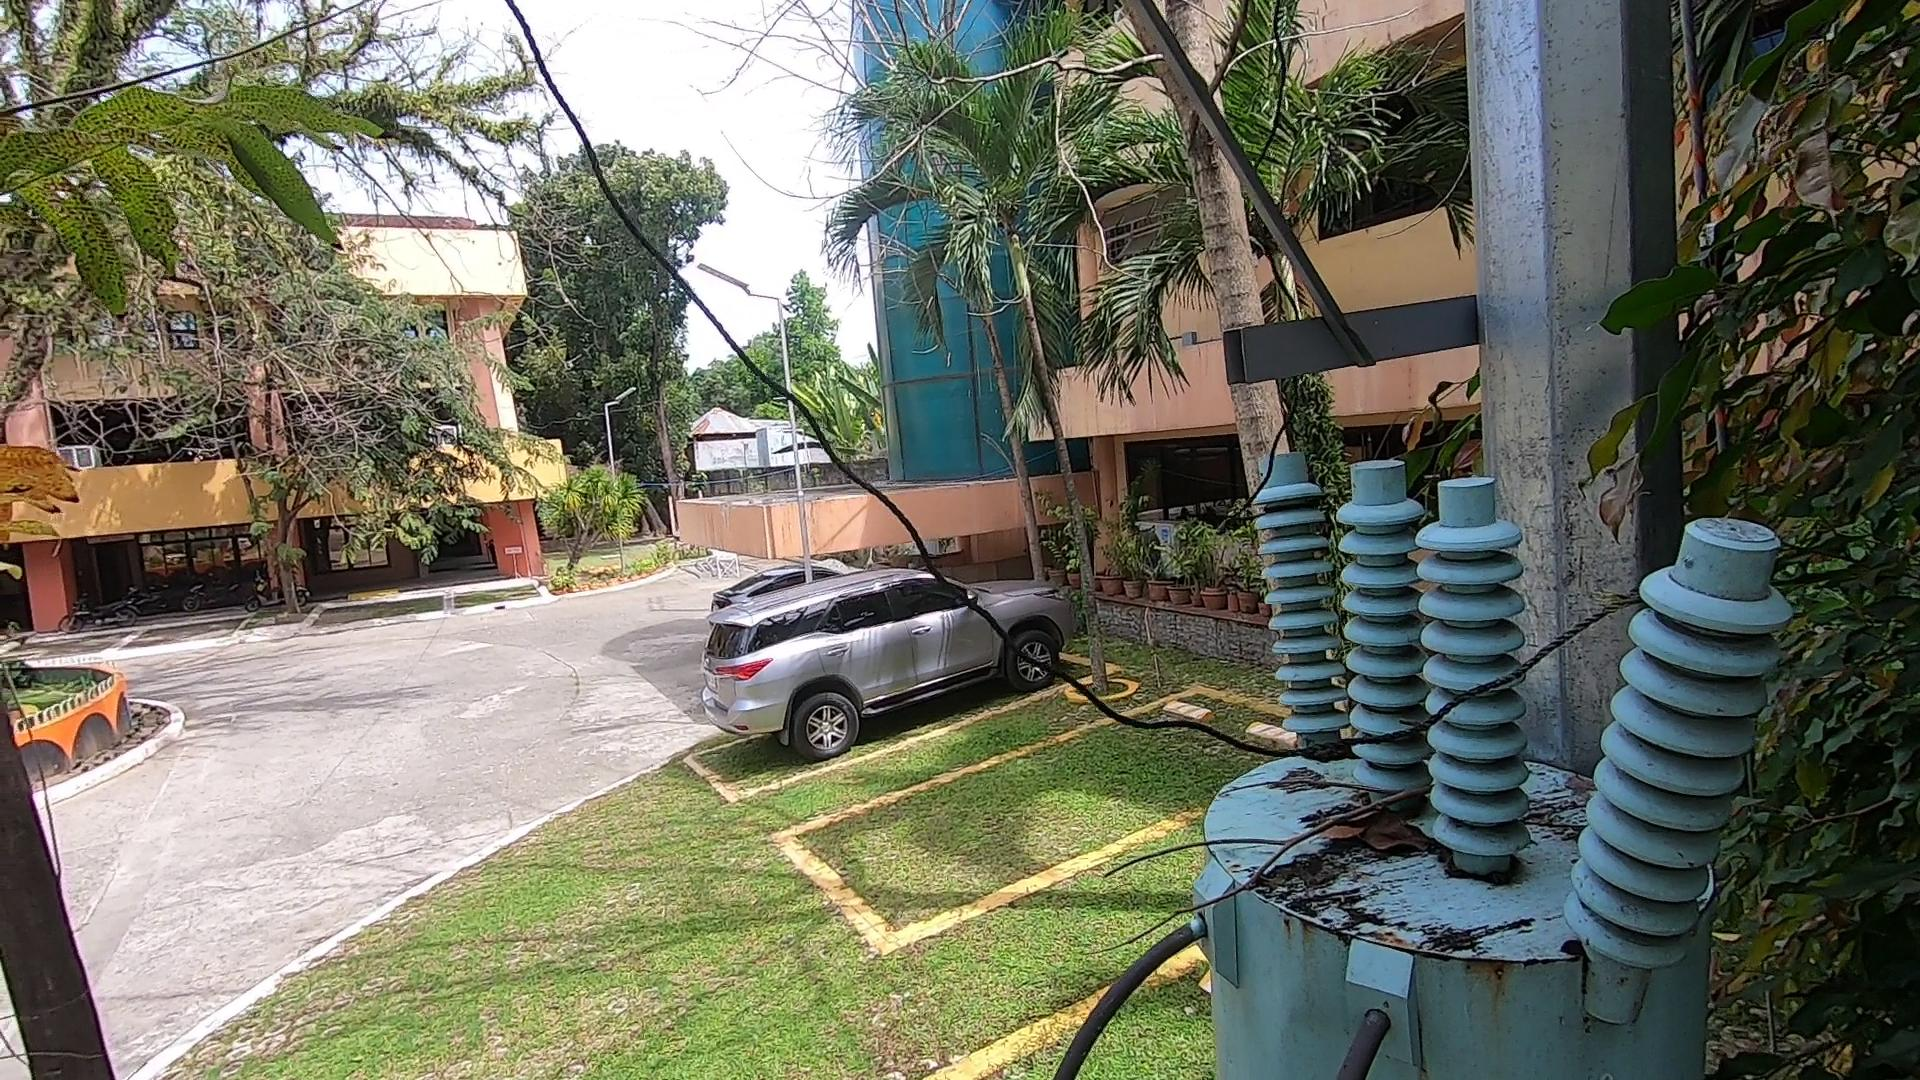leaf: (1327, 803, 1444, 882)
tree branch: (1079, 773, 1449, 953)
